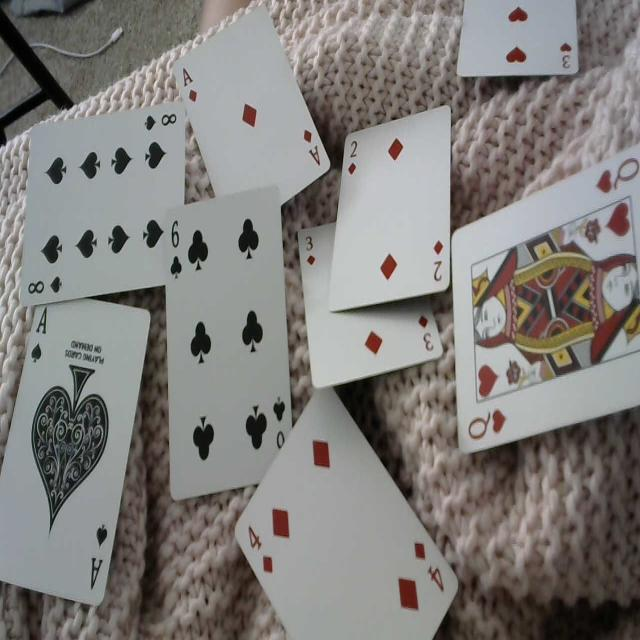2D: (429, 235, 447, 286), (345, 132, 360, 178)
3D: (416, 311, 434, 355), (303, 230, 317, 268)
3H: (555, 40, 574, 73)
4D: (411, 534, 447, 598), (247, 522, 275, 580)
6C: (167, 213, 184, 283)
8S: (26, 268, 63, 300), (141, 104, 179, 133)
AD: (300, 124, 324, 169), (180, 65, 198, 108)
AS: (87, 518, 109, 595), (30, 303, 50, 369)
QH: (593, 153, 640, 200), (463, 405, 509, 443)
